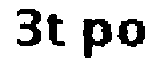3: (9, 3, 43, 51)
o: (117, 17, 150, 53)
p: (77, 14, 114, 60)
t: (43, 8, 77, 48)
